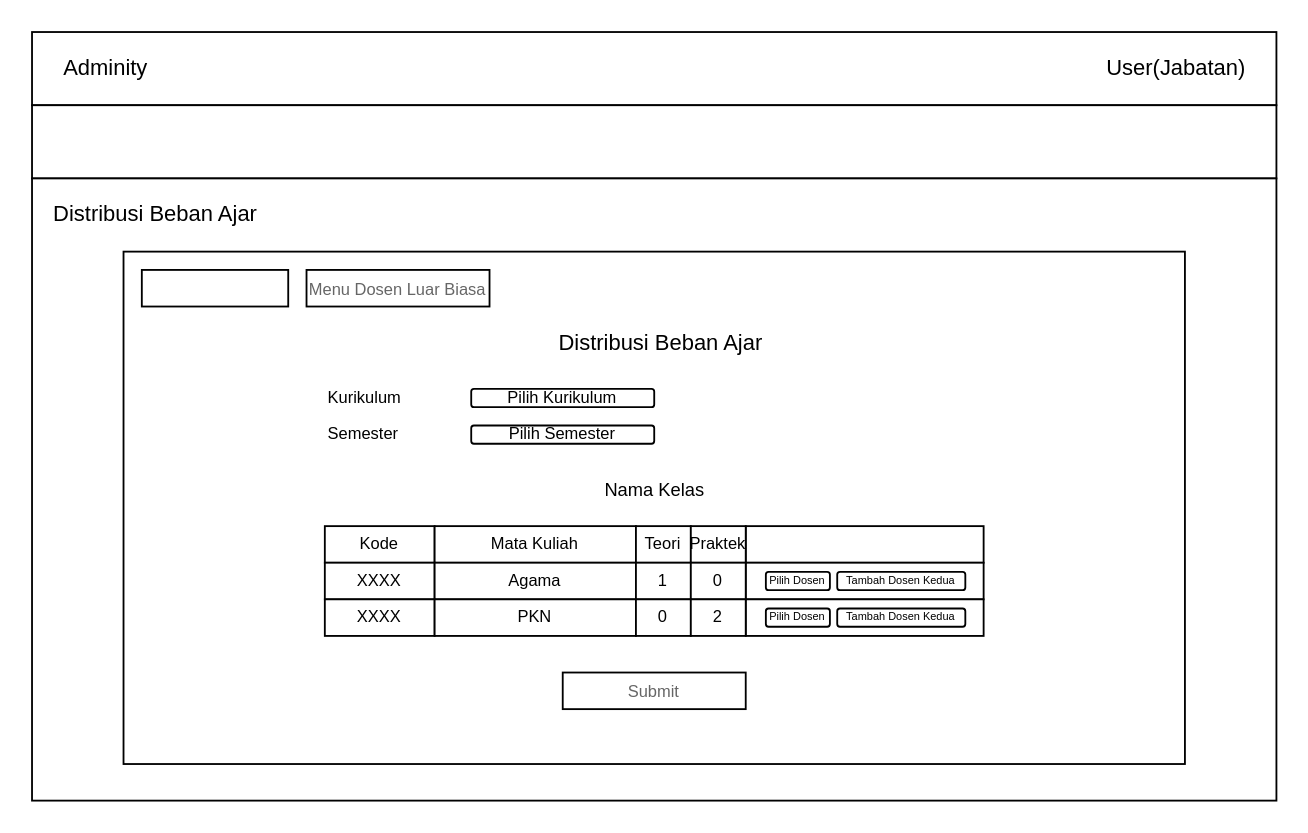
Some shapes in this 1308 by 833 pixel diagram are drawn without their labels. Here are the shapes that lost their labels. From the top down, the centre of each, then its label:
At pixel 653 140: "Menu".
At pixel 214 287: "Menu Lintas Prodi".
At pixel 864 543: "Dosen".
